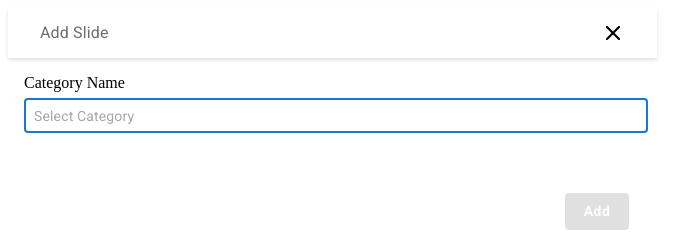
Test case: AddSlideForm Component › should test branch
Type "accom" into the dropdown with placeholder "Select Category" at (316, 116), box [24,98,609,133]
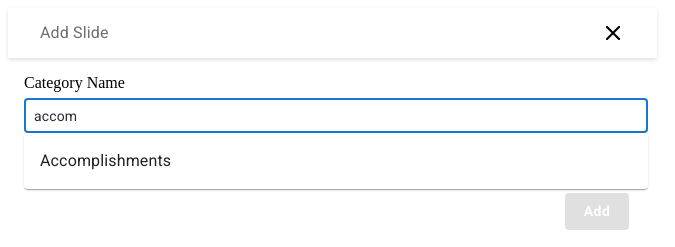
Press ArrowDown in the dropdown with placeholder "Select Category", box [24,98,609,133]
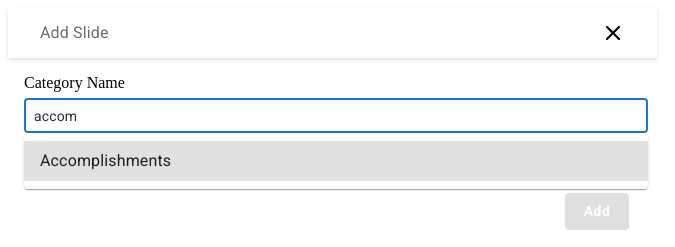
Press Enter in the dropdown with placeholder "Select Category", box [24,98,609,133]
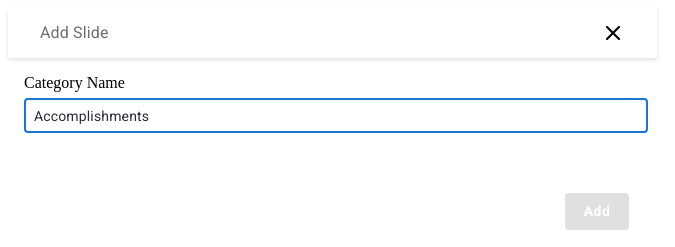
Now the dropdown with placeholder "Select Category" holds "Accomplishments", box [24,98,609,133]
